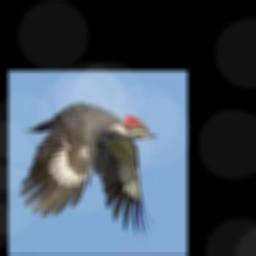Woodpecker: (20, 102, 157, 241)
